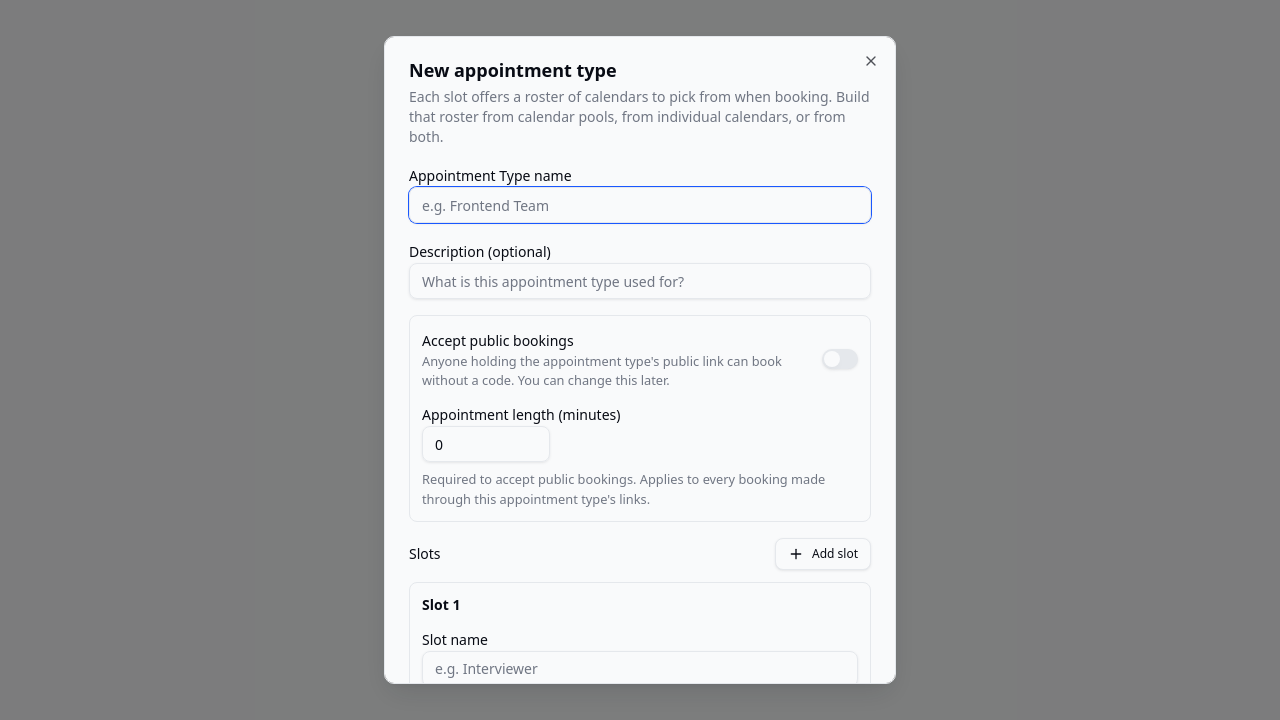
Scenario: CreateAppointmentTypeDialog › removes a slot when the remove button is clicked
Note: Add a second slot first so "Remove" buttons appear
What coordinates should you click on to do the following:
click the button "Add slot"
I would click on:
 (823, 554)
Its box is [775, 538, 871, 570].
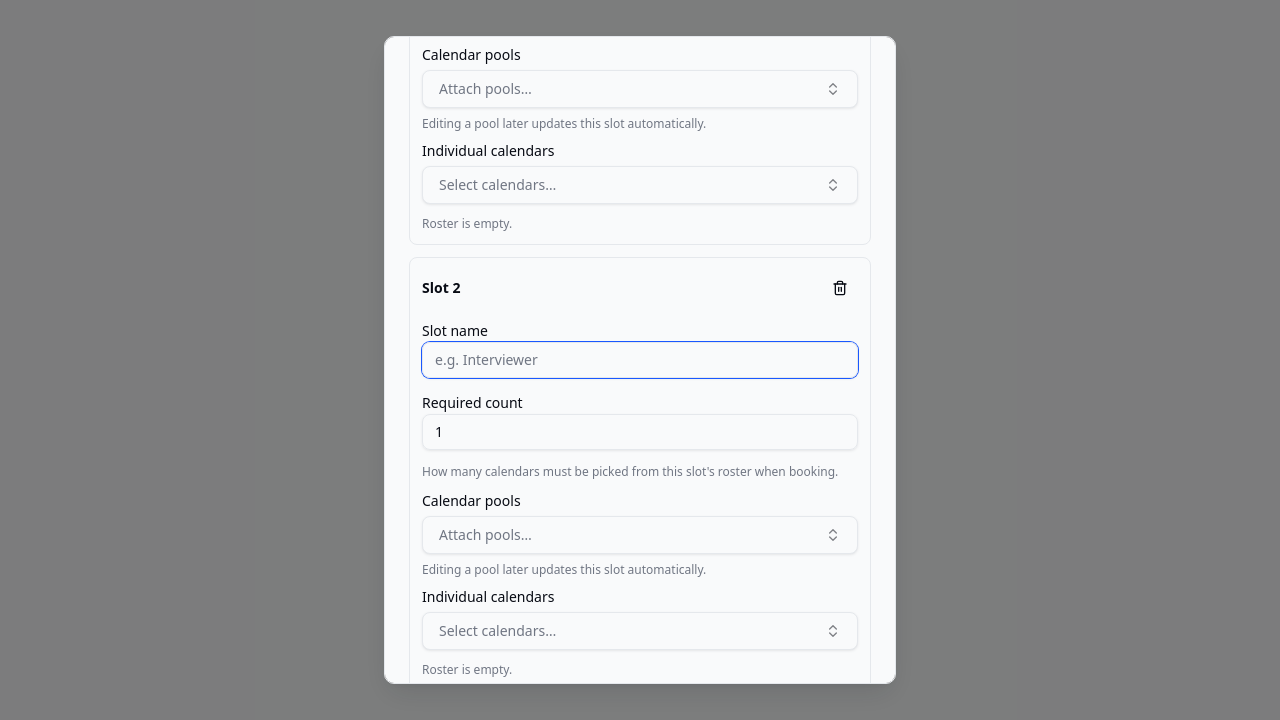
Check: the element with test id "slot-editor-1" is shown, box [409, 257, 871, 684]
Note: Remove the second slot
What coordinates should you click on to do the following:
click the button named "remove slot 2"
I would click on:
 (840, 288)
Its box is [822, 270, 858, 306].
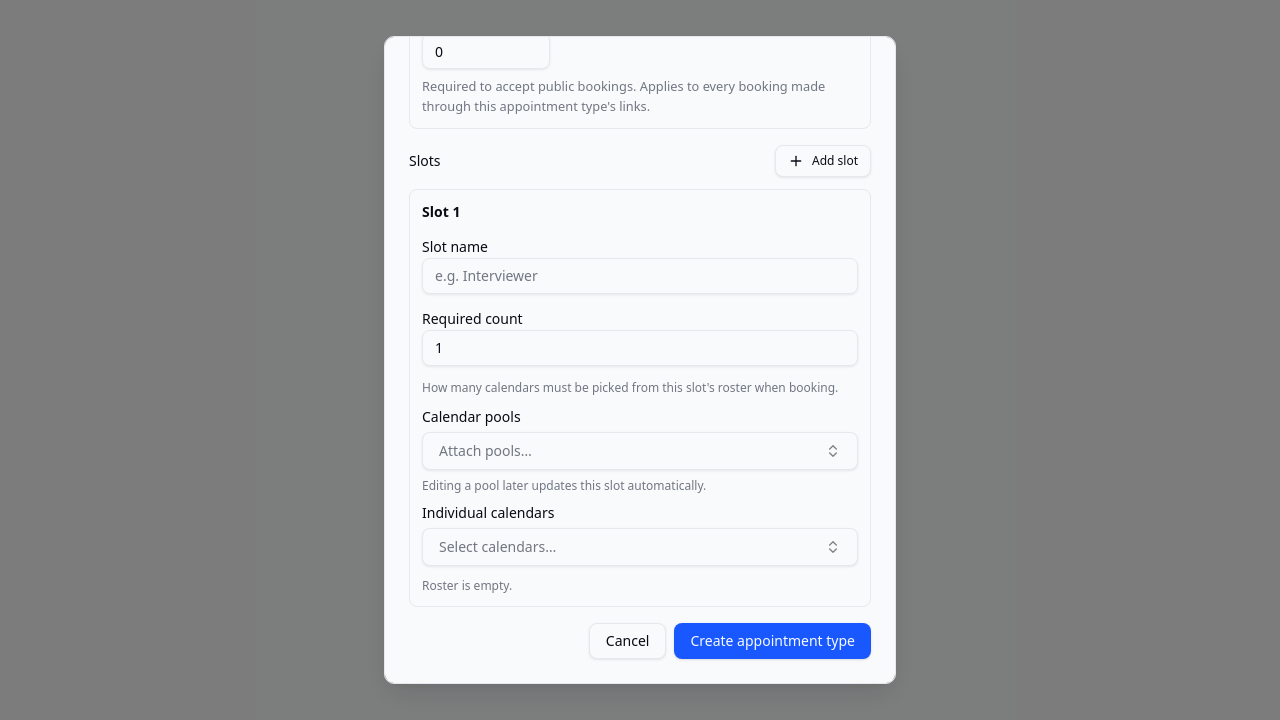
Check: the element with test id "slot-editor-1" is gone
